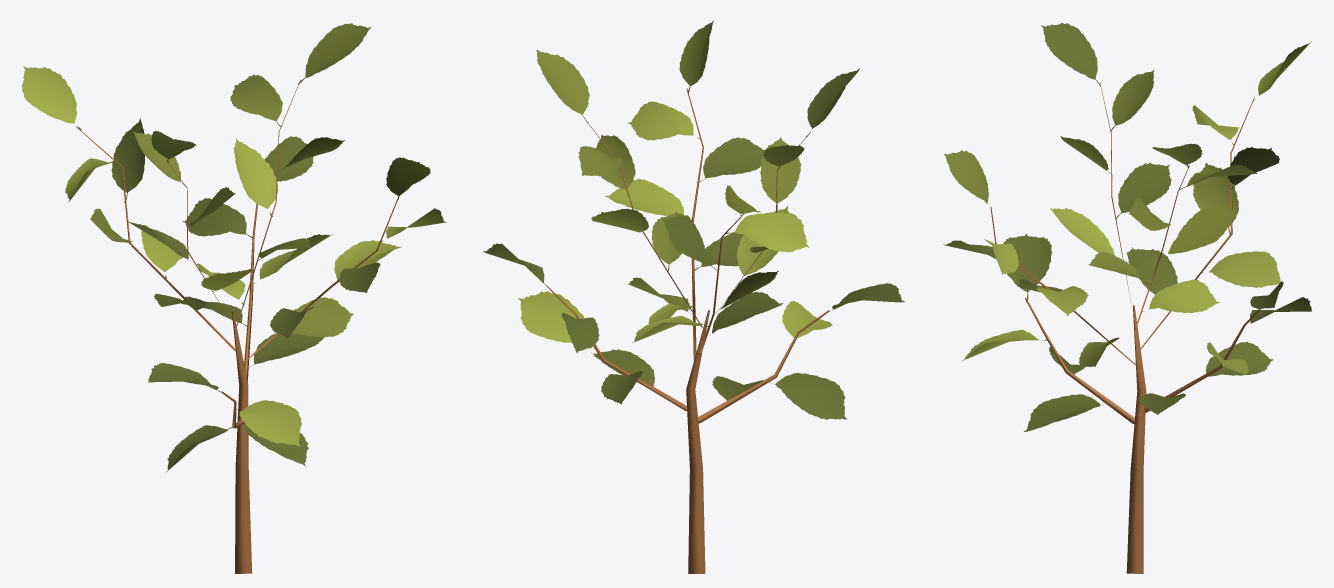
The model's file is Young_Birch_Tree_3.fbx.
3 renders of one model, left to right at view 1: azimuth 30°, elevation 25°; view 2: azimuth 150°, elevation 25°; view 3: azimuth 270°, elevation 25°, orthographic.
Visible parts, largest first — view 1: Young_Birch_Tree_3; view 2: Young_Birch_Tree_3; view 3: Young_Birch_Tree_3.
Part boxes in pixels (<box>): Young_Birch_Tree_3: <box>21,23,446,573</box>; Young_Birch_Tree_3: <box>483,20,904,573</box>; Young_Birch_Tree_3: <box>943,22,1311,573</box>.
Bounding box in the file's own units: 82.74 × 129 × 89.6.
Materials: 2 (2 with a texture image).
